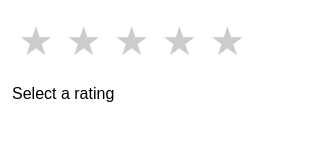
Test: StarRating › Allows selecting a rating
This screenshot has width=332, height=160.
Click the 3rd button "★".
click(132, 41)  # box left=108, top=17, right=156, bottom=65
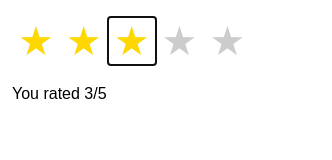
Result: the text "You rated 3/5" is shown at left=12, top=85, right=107, bottom=102
